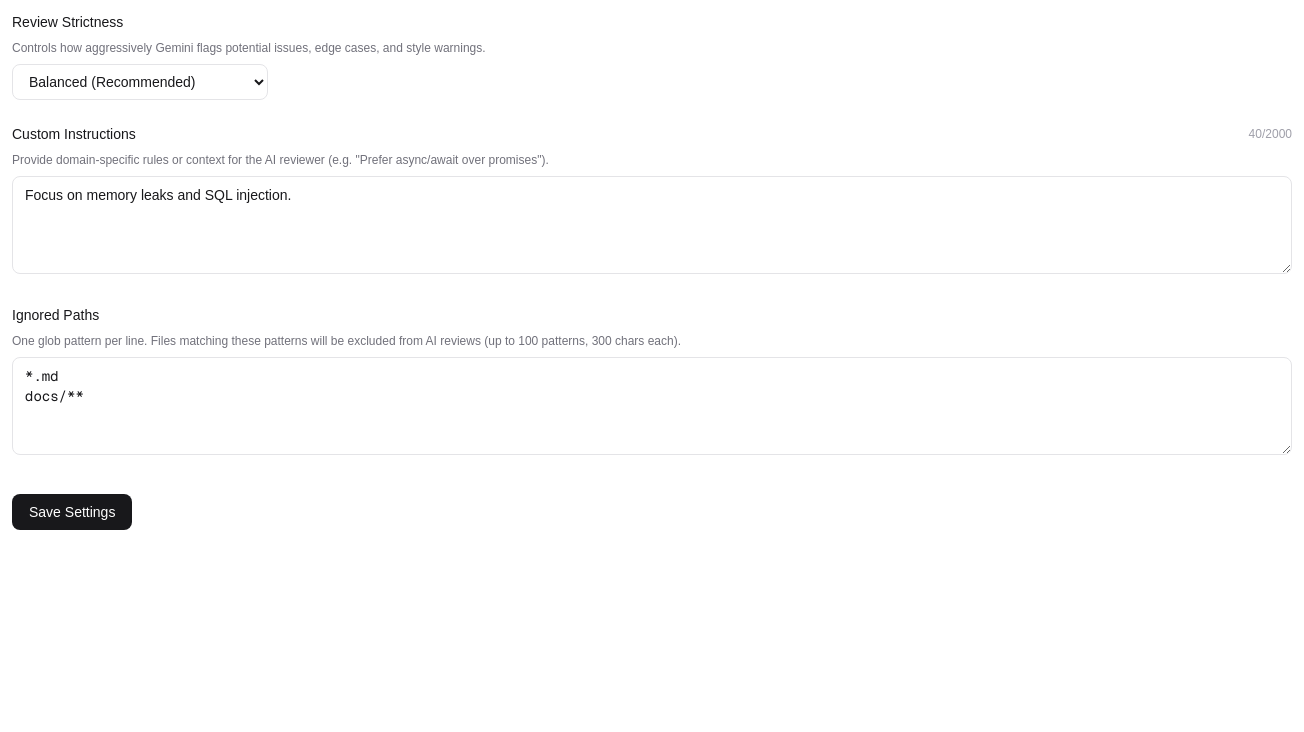
it: SettingsForm › successfully saves settings and shows success feedback
Select "Strict (Thorough analysis & style tips)" in the dropdown labelled "Review Strictness" at coordinates (140, 82), box left=12, top=64, right=268, bottom=100
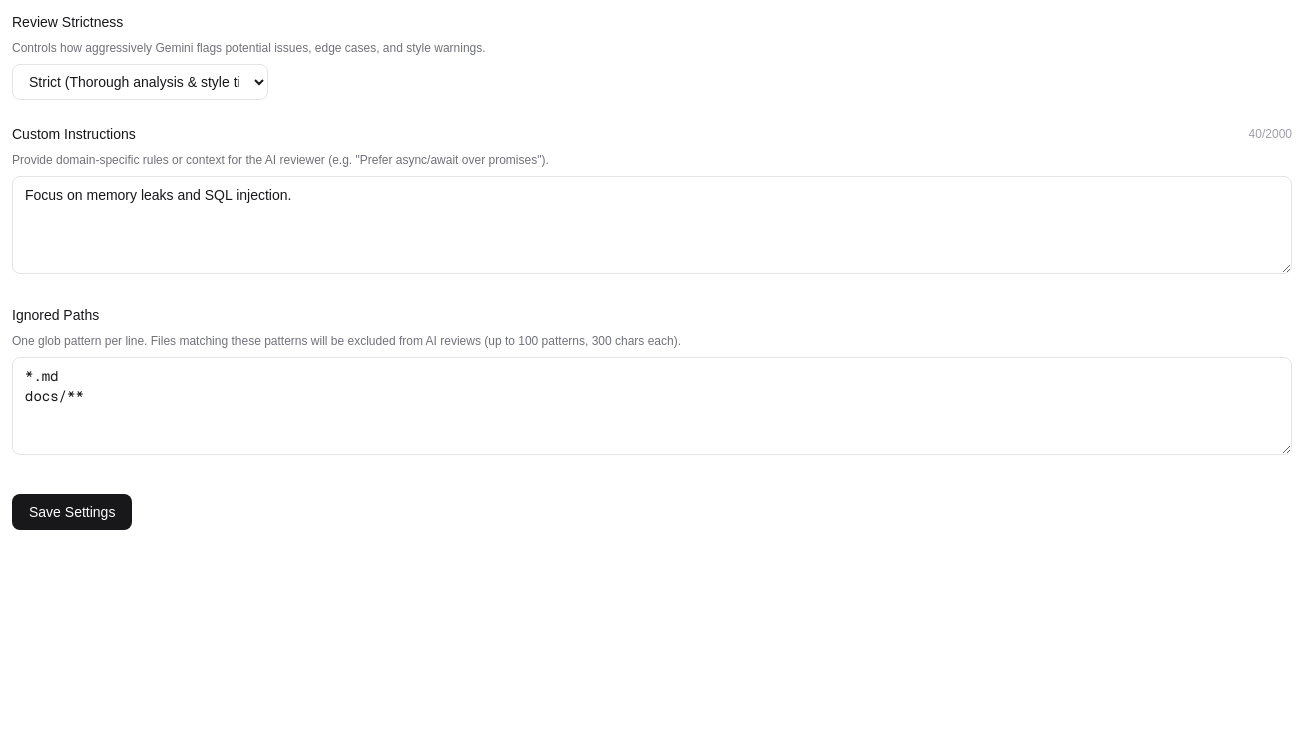
Click the button "Save Settings" at coordinates (72, 512), box left=12, top=494, right=132, bottom=530
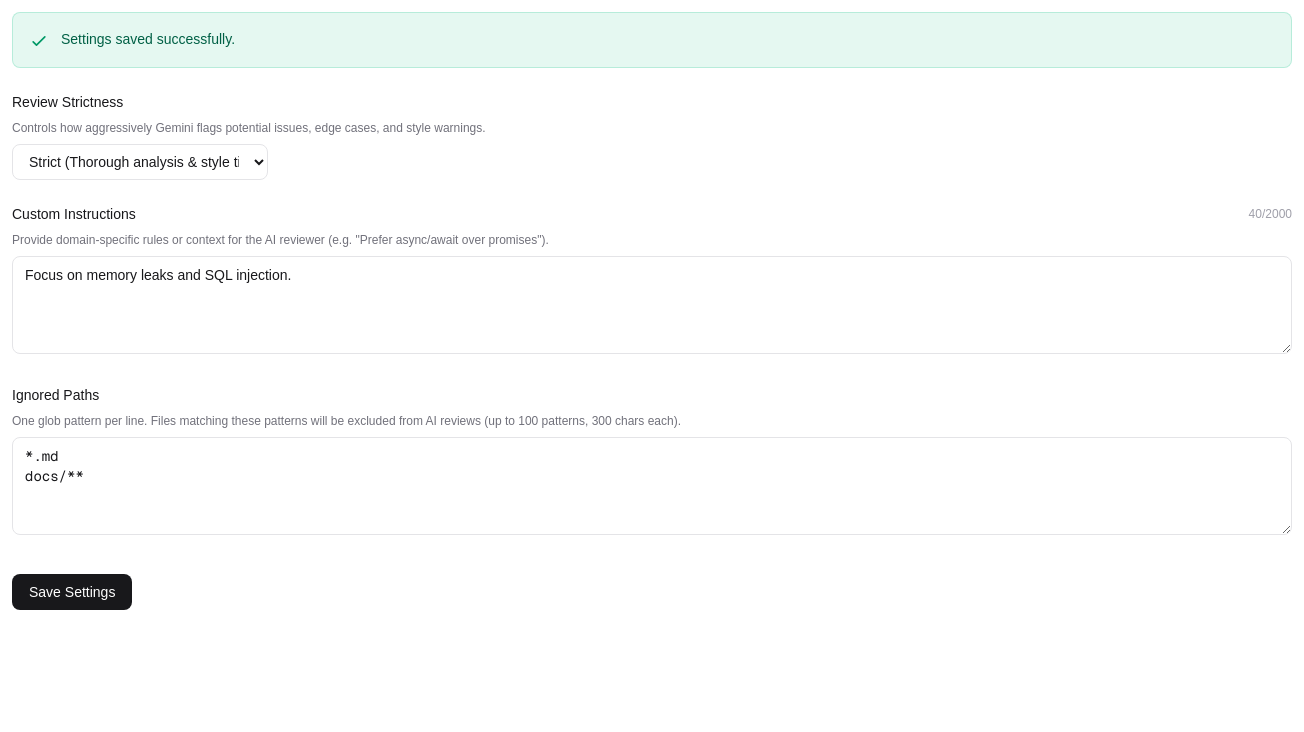
Now the text "Settings saved successfully." is shown, box left=61, top=29, right=235, bottom=49
